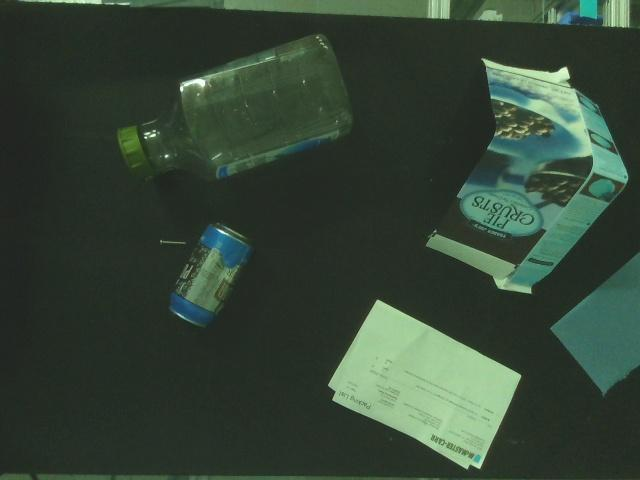cardboard: (424, 55, 628, 296), (551, 250, 640, 397)
metal: (166, 220, 258, 331)
paper: (326, 299, 522, 470)
plastic: (117, 30, 356, 186)
